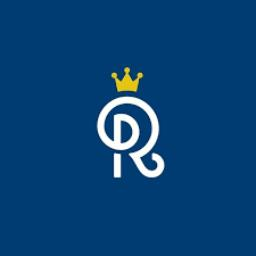r: (90, 88, 178, 194)
